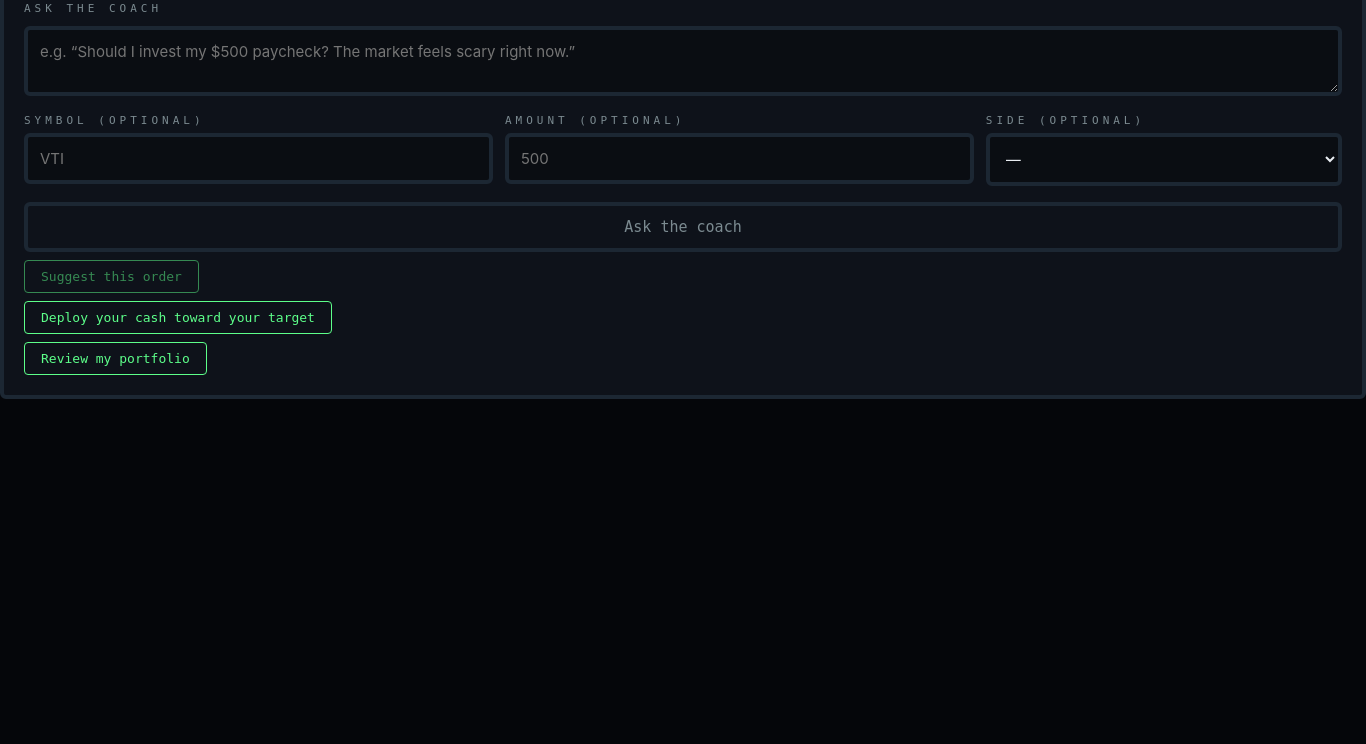
Test: CoachConsult — deploy-my-cash affordance (Story 10.2/10.3) › renders the current-vs-target x-ray + unclassified sleeve on a deploy plan (Story 10.7)
Click the button with test id "coach-deploy-cash": (178, 318) [24,301,332,334]
(page scrolled)
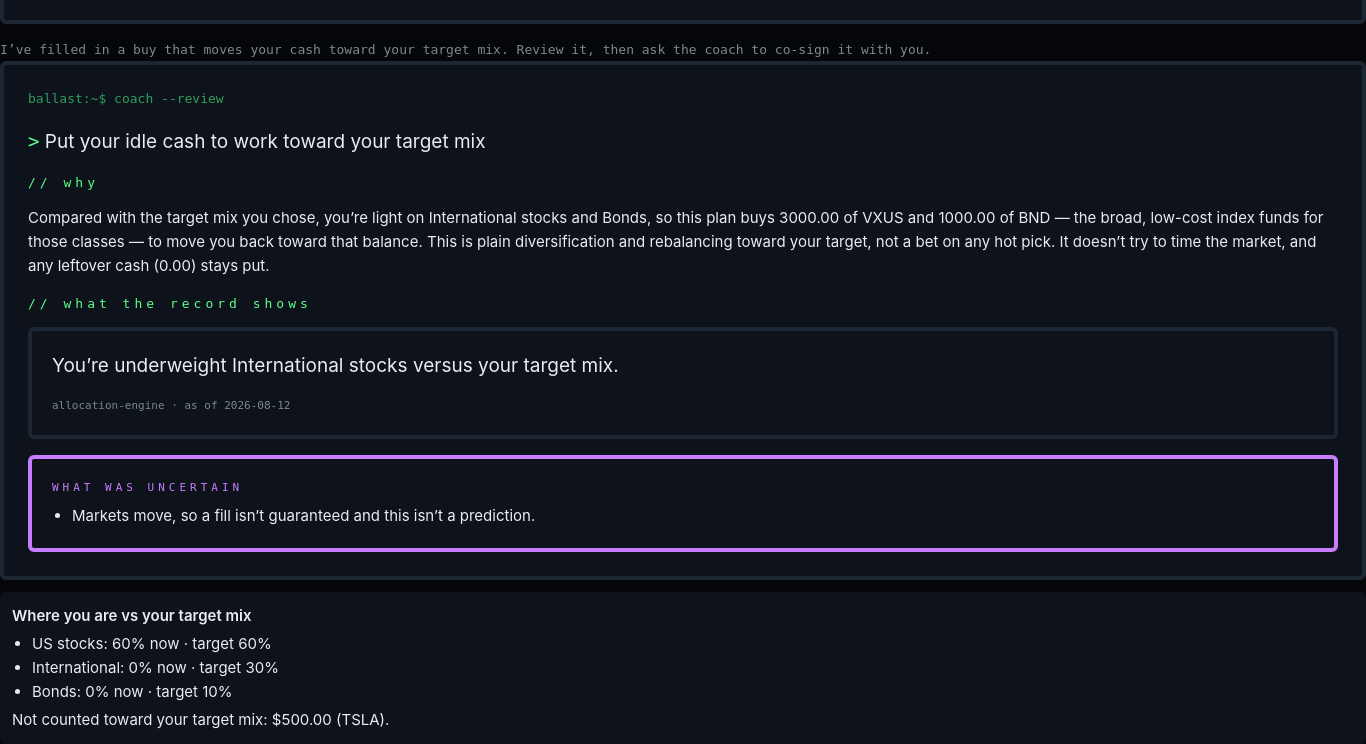
Expected: the element with test id "coach-deploy-xray" is shown, [0,592,1365,743]
Expected: the list item with test id "coach-xray-us_equity" reads "US stocks: 60% now · target 60%", [32,634,272,653]
Expected: the list item with test id "coach-xray-intl_equity" reads "International: 0% now · target 30%", [32,658,279,677]
